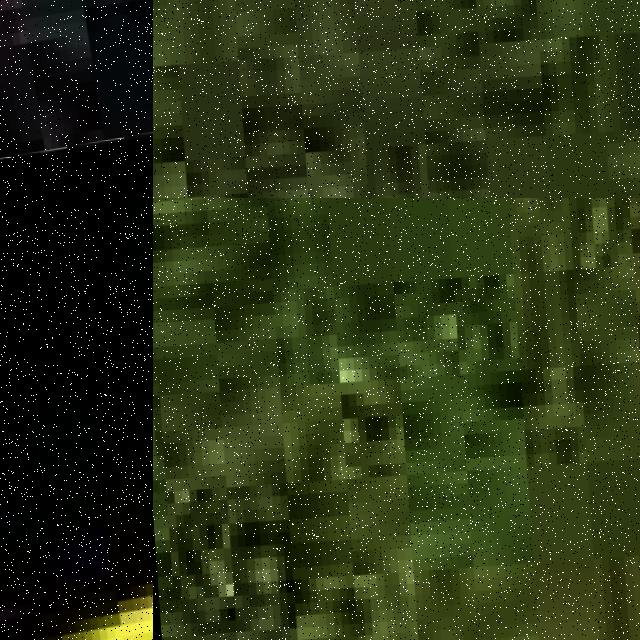drone: (0, 198, 153, 640), (0, 0, 153, 198)
